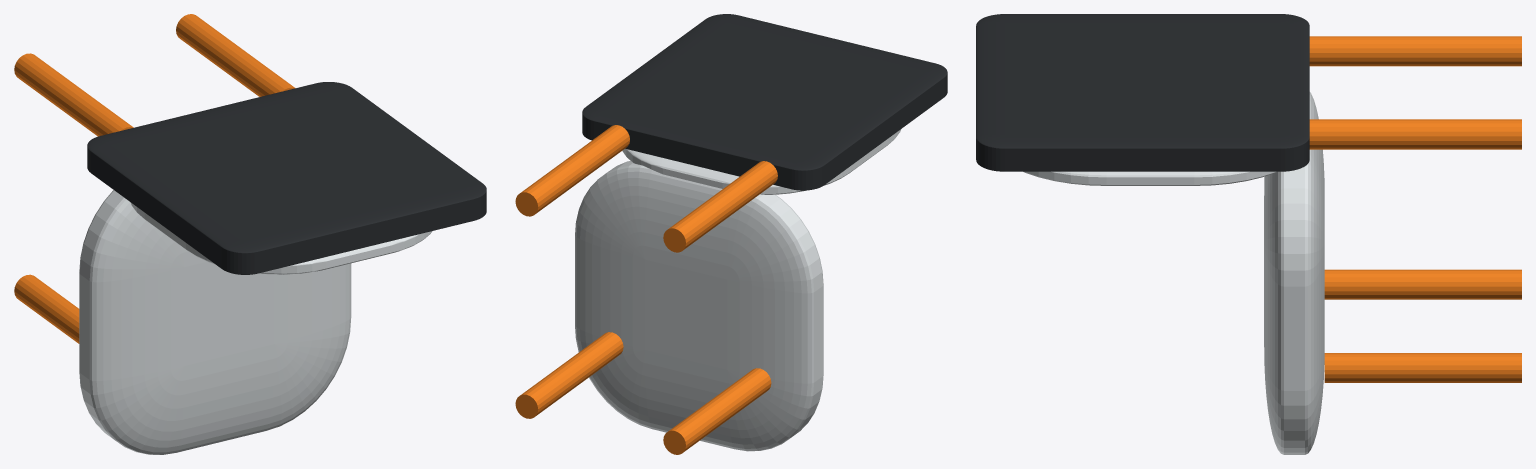
File: silla.obj
The picture shows the model from 3 angles, left to right: view 1: azimuth 30°, elevation 25°; view 2: azimuth 150°, elevation 25°; view 3: azimuth 270°, elevation 25°; orthographic projection. The views are drawn at different scales.
Visible parts, largest first — view 1: group_0_14541540, group_0_2829873, group_0_16089887; view 2: group_0_14541540, group_0_2829873, group_0_16089887; view 3: group_0_2829873, group_0_16089887, group_0_14541540.
Boxes of the visible parts, bbox=[...] form: group_0_14541540: bbox=[79, 190, 432, 454]; group_0_2829873: bbox=[87, 82, 486, 274]; group_0_16089887: bbox=[14, 14, 295, 343]; group_0_14541540: bbox=[575, 129, 901, 451]; group_0_2829873: bbox=[582, 14, 947, 190]; group_0_16089887: bbox=[515, 125, 777, 454]; group_0_2829873: bbox=[976, 14, 1309, 171]; group_0_16089887: bbox=[1309, 36, 1521, 382]; group_0_14541540: bbox=[1023, 92, 1324, 454].
Bounding box in the file's own units: 21 × 25 × 36.
